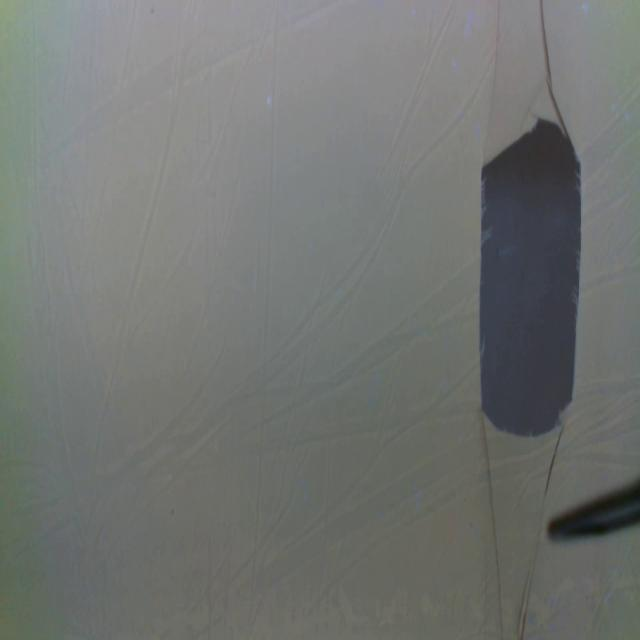crease: (481, 416, 502, 640), (539, 0, 570, 134), (517, 498, 545, 636), (544, 427, 565, 498)
hole: (478, 115, 582, 438)
